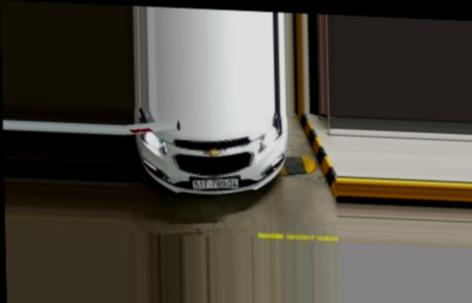License_Plate: (190, 175, 241, 192)
